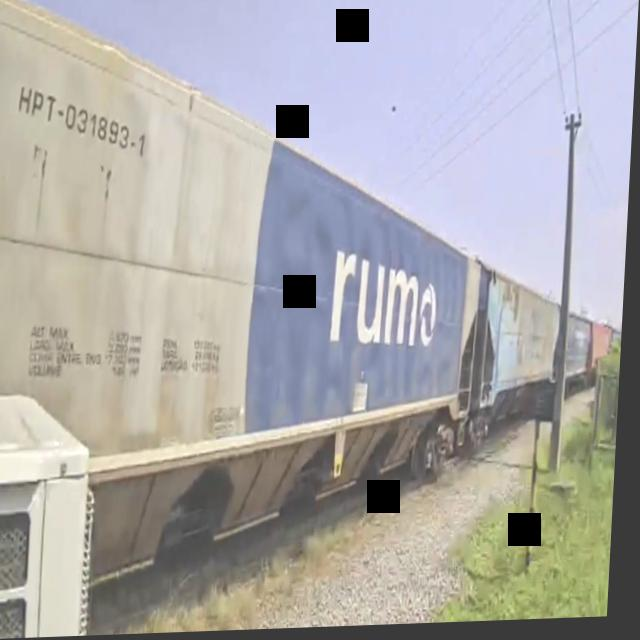gondola: (0, 0, 497, 618)
hopper: (479, 263, 569, 440)
